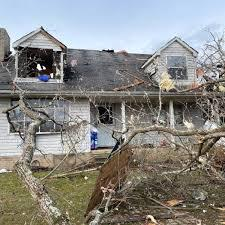major: (0, 18, 225, 170)
